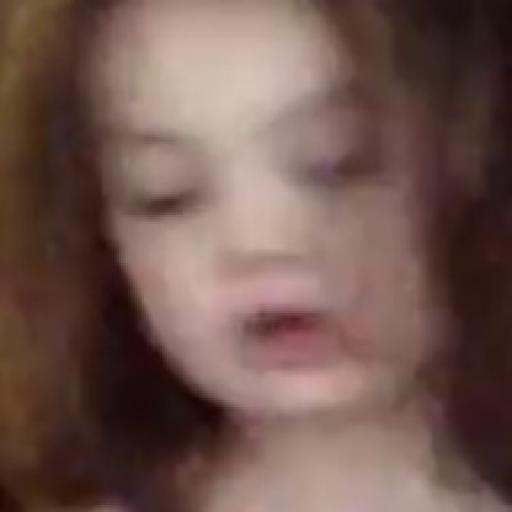Autism: (77, 5, 467, 478)
